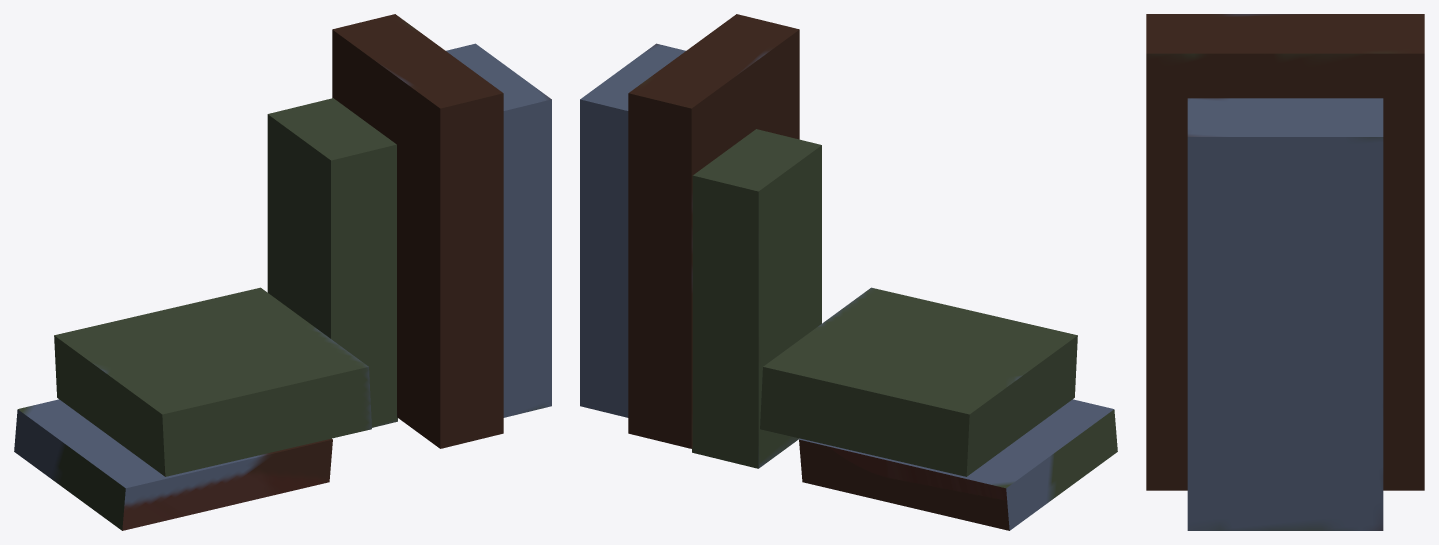
File: Books_Var_02.fbx
The picture shows the model from 3 angles, left to right: view 1: azimuth 30°, elevation 25°; view 2: azimuth 150°, elevation 25°; view 3: azimuth 270°, elevation 25°; orthographic projection. The views are drawn at different scales.
Visible parts, largest first — view 1: SK_Books1_Var1; view 2: SK_Books1_Var1; view 3: SK_Books1_Var1.
Part boxes in pixels (x1=…): SK_Books1_Var1: x1=14, y1=14, x2=551, y2=530; SK_Books1_Var1: x1=580, y1=14, x2=1117, y2=530; SK_Books1_Var1: x1=1146, y1=14, x2=1424, y2=530.
Size of the model in its own units: 75.57 by 56.17 by 31.8.
